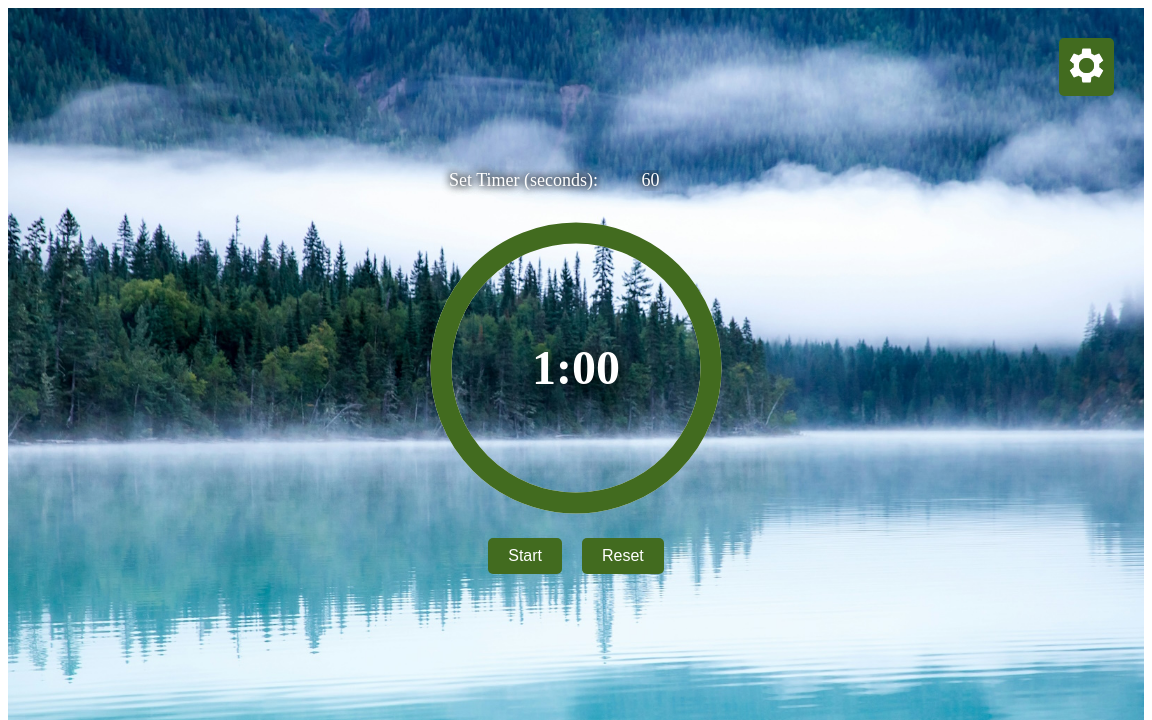
Timer Component › disables Start button when timer is set to zero
The width and height of the screenshot is (1152, 720).
Replace the text in the number field with "0" at (658, 180), box top-left (613, 162), bottom-right (703, 198)
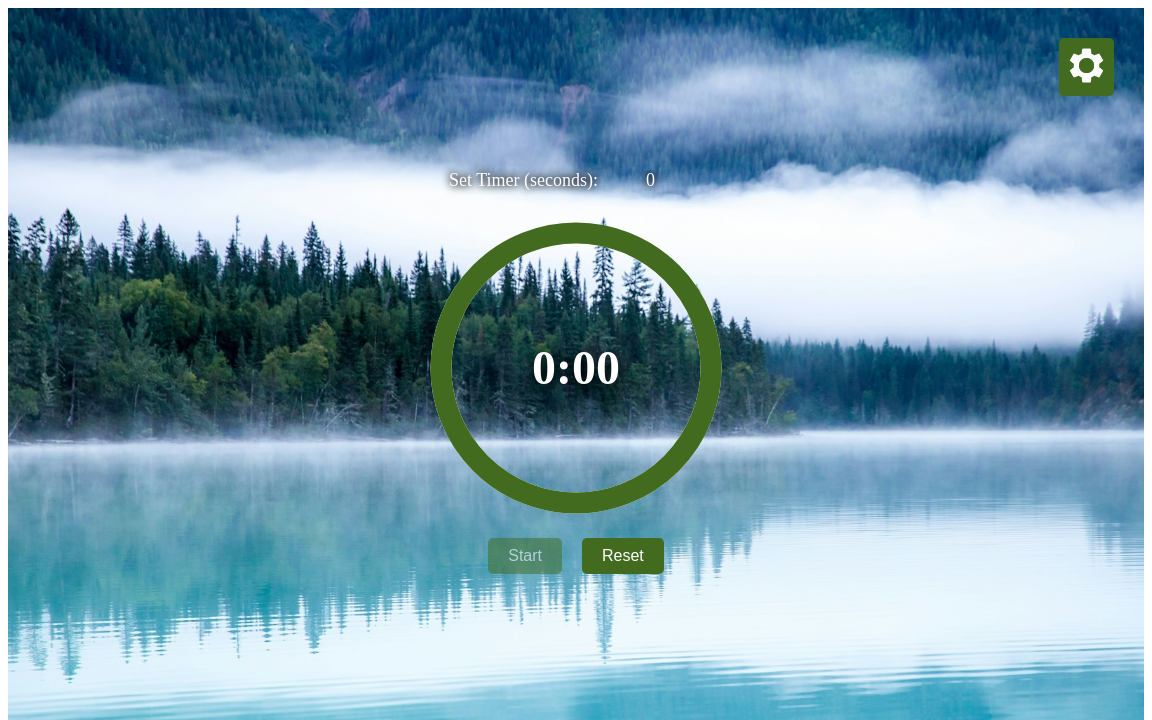
expect the button "Start" is disabled: met, box top-left (488, 538), bottom-right (562, 574)
